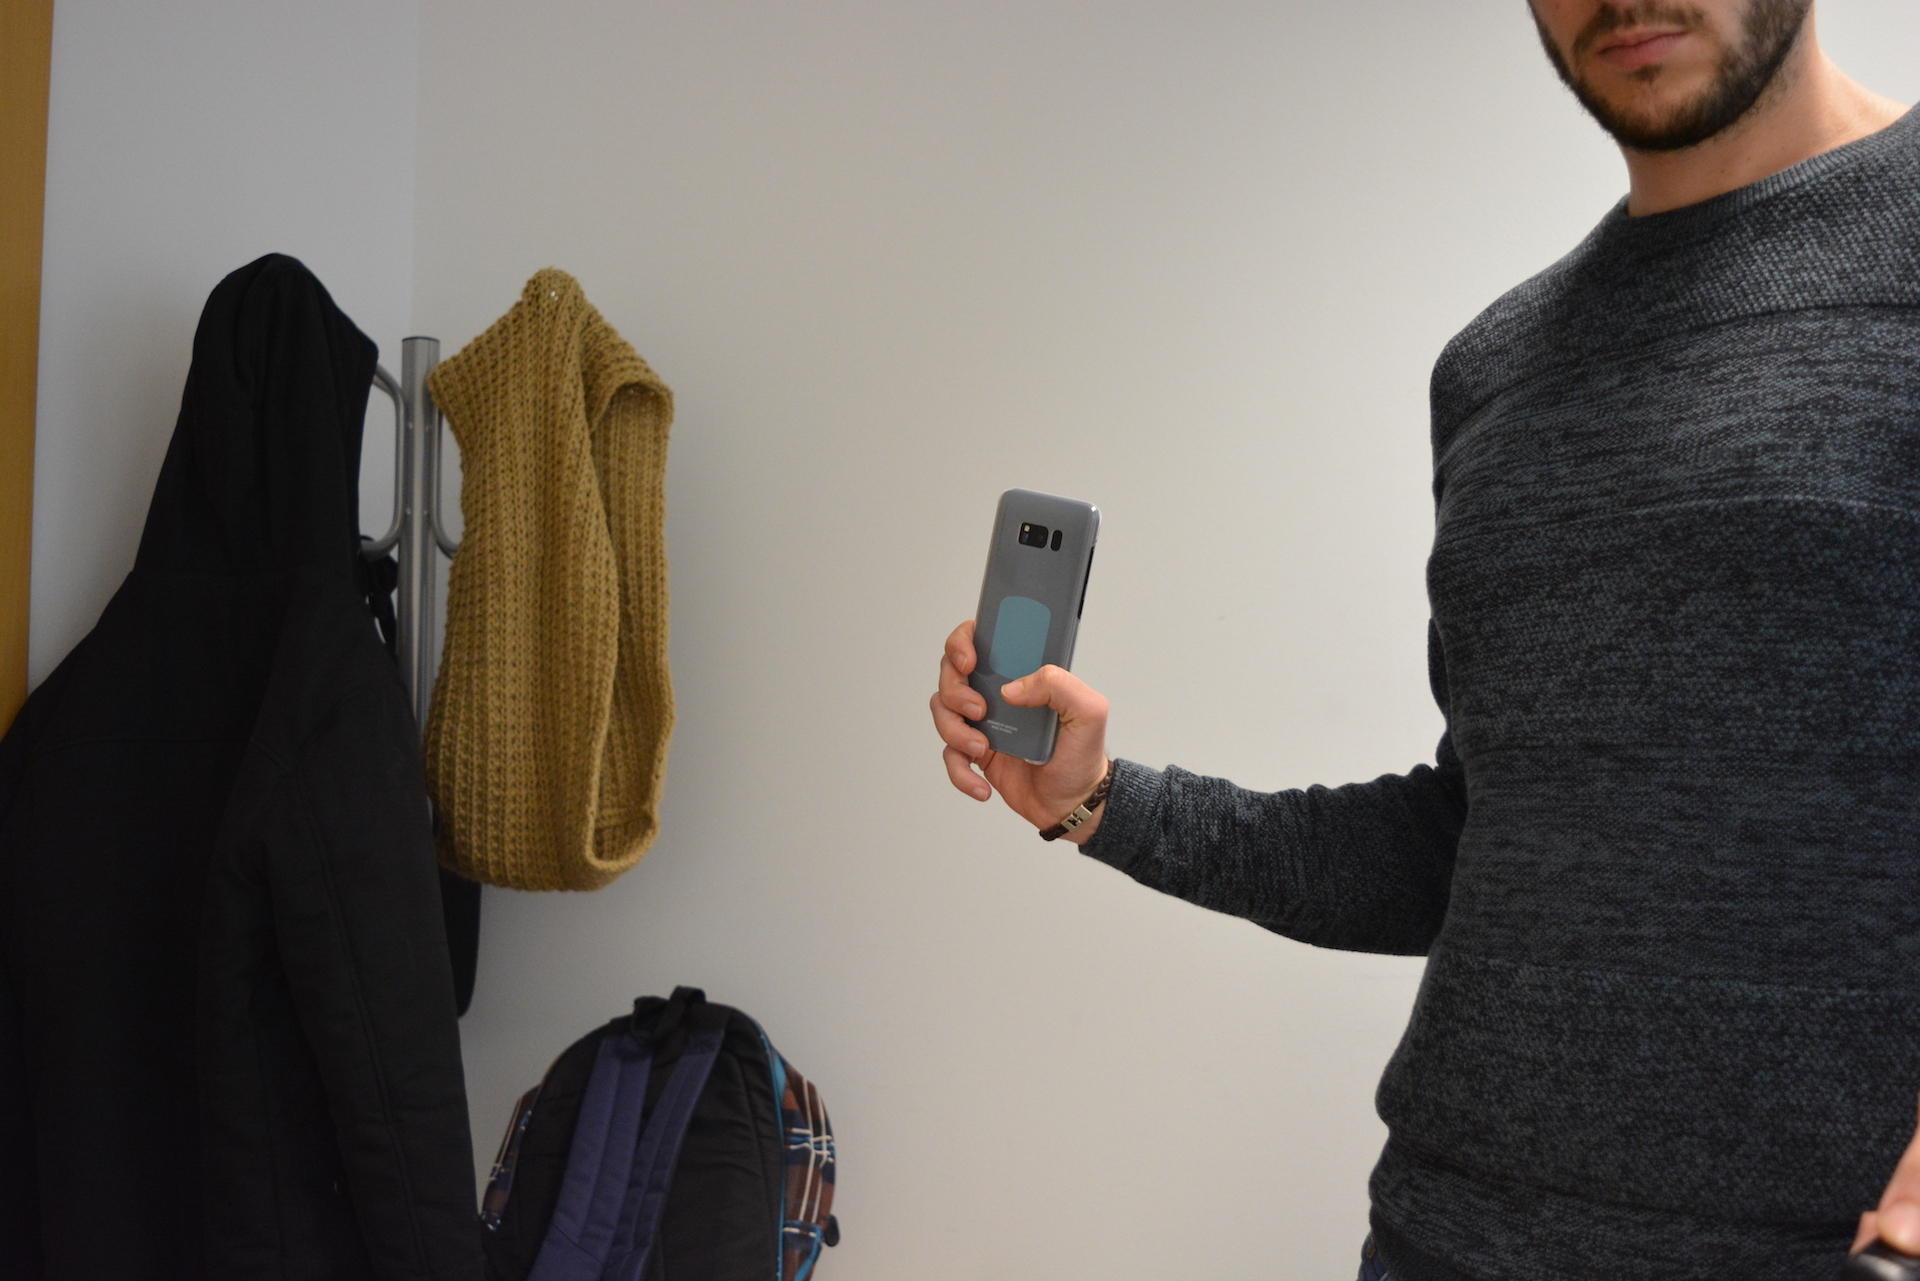smartphone: (961, 488, 1104, 766)
